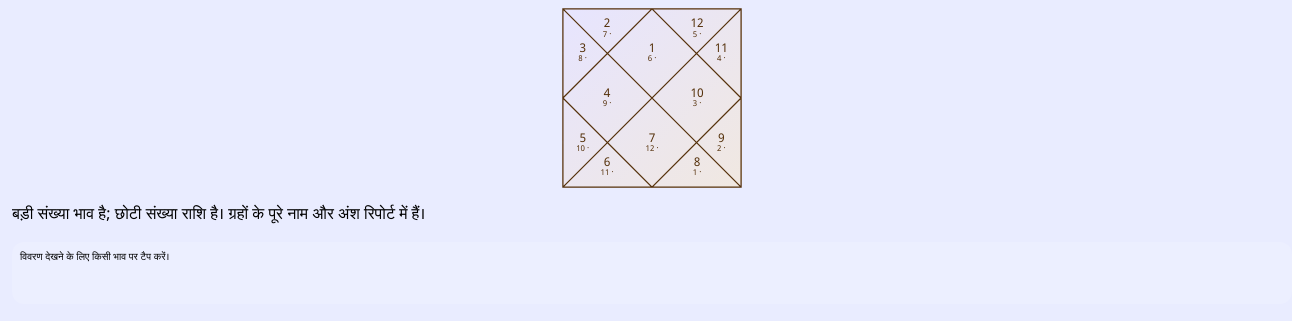
it: explains an empty house in hi
What coordinates should you click on to do the following:
click the button "3 8 ·"
I would click on:
 (583, 53)
Its box is [566,36,600,70].
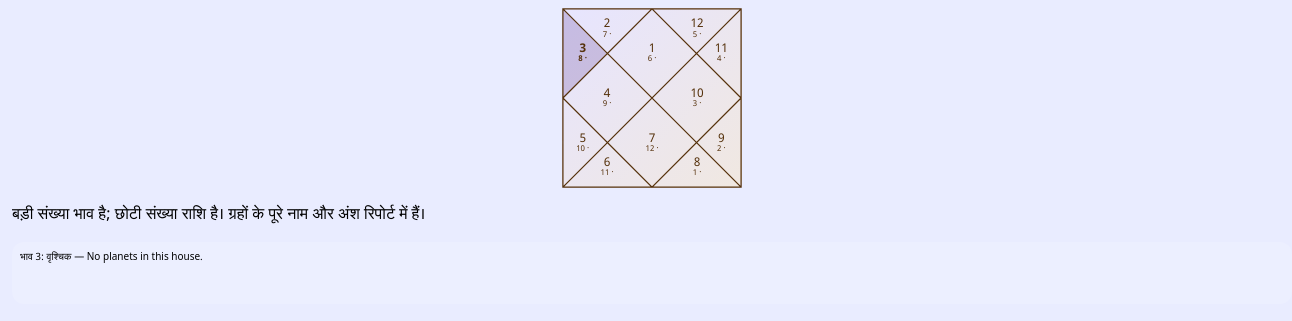
Expected: the text "भाव 3: वृश्चिक — No planets in this house." is shown, [12,242,1291,304]
